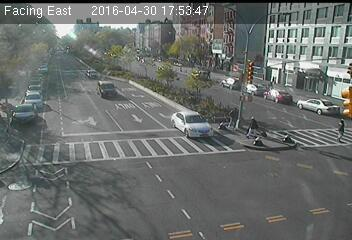neg: (83, 125, 119, 174), (24, 86, 51, 122), (47, 139, 73, 173), (299, 27, 323, 60), (35, 29, 58, 61), (183, 186, 206, 217), (127, 60, 150, 90), (225, 153, 248, 183), (169, 107, 191, 137), (141, 171, 163, 200), (259, 62, 281, 90), (78, 72, 97, 97), (195, 39, 214, 63), (301, 83, 319, 107), (285, 131, 300, 151)
pos: (329, 116, 350, 144), (247, 113, 265, 137), (228, 103, 246, 127)
